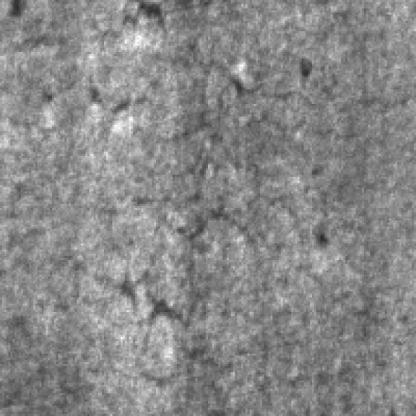crazing: (85, 48, 391, 146), (102, 188, 262, 324)
